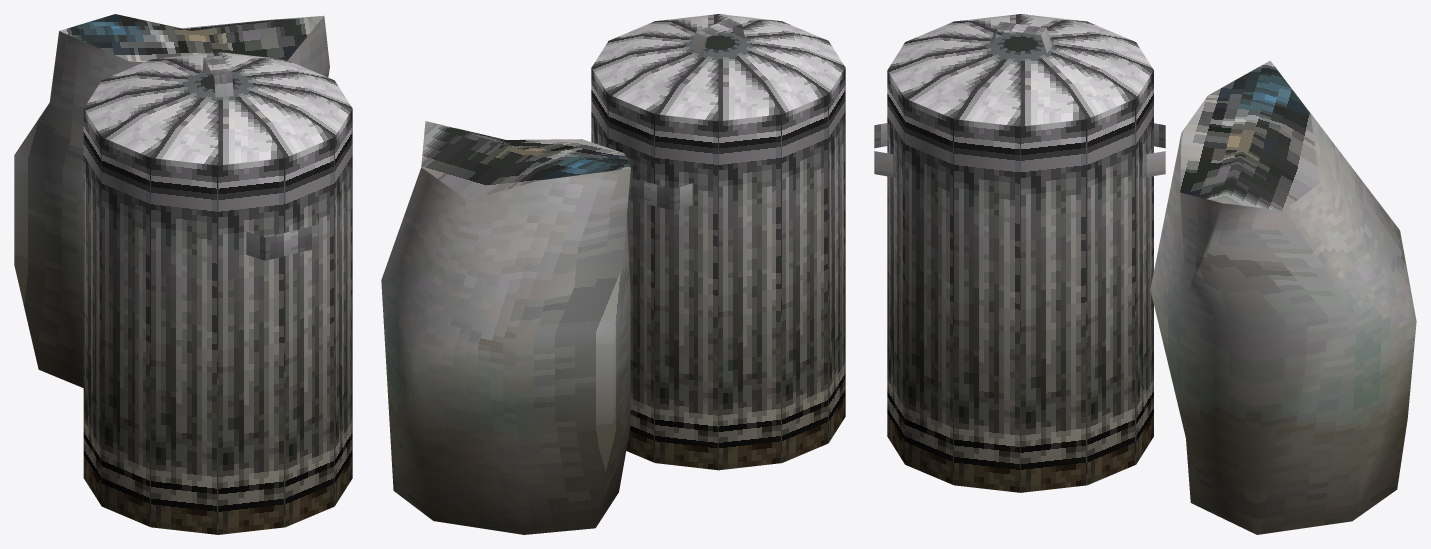
File: M2_BinBags.glb
3 renders of one model, left to right at view 1: azimuth 30°, elevation 25°; view 2: azimuth 150°, elevation 25°; view 3: azimuth 270°, elevation 25°, orthographic. The views are drawn at different scales.
Visible parts, largest first — view 1: M2_BINBAGS; view 2: M2_BINBAGS; view 3: M2_BINBAGS.
Boxes of the visible parts, box(x1,y1,x2,y2) form: M2_BINBAGS: box(14, 14, 352, 534); M2_BINBAGS: box(381, 14, 845, 534); M2_BINBAGS: box(874, 14, 1416, 534).
Bounding box in the file's own units: 0.954 × 1.11 × 1.34.
1 material, 1 textured.
